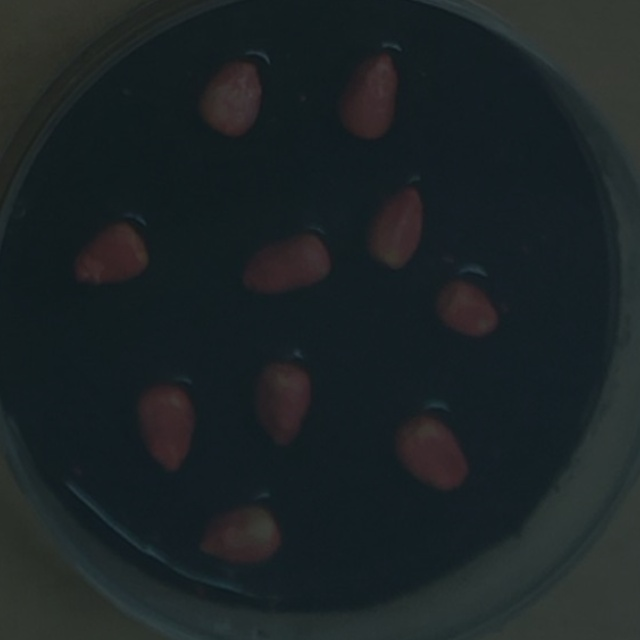Zea mays: (231, 221, 340, 307), (326, 42, 406, 148), (385, 407, 476, 499), (126, 374, 201, 482), (64, 210, 156, 296), (188, 496, 287, 575), (188, 50, 268, 147), (243, 355, 318, 456), (356, 179, 430, 279), (423, 272, 502, 347)
